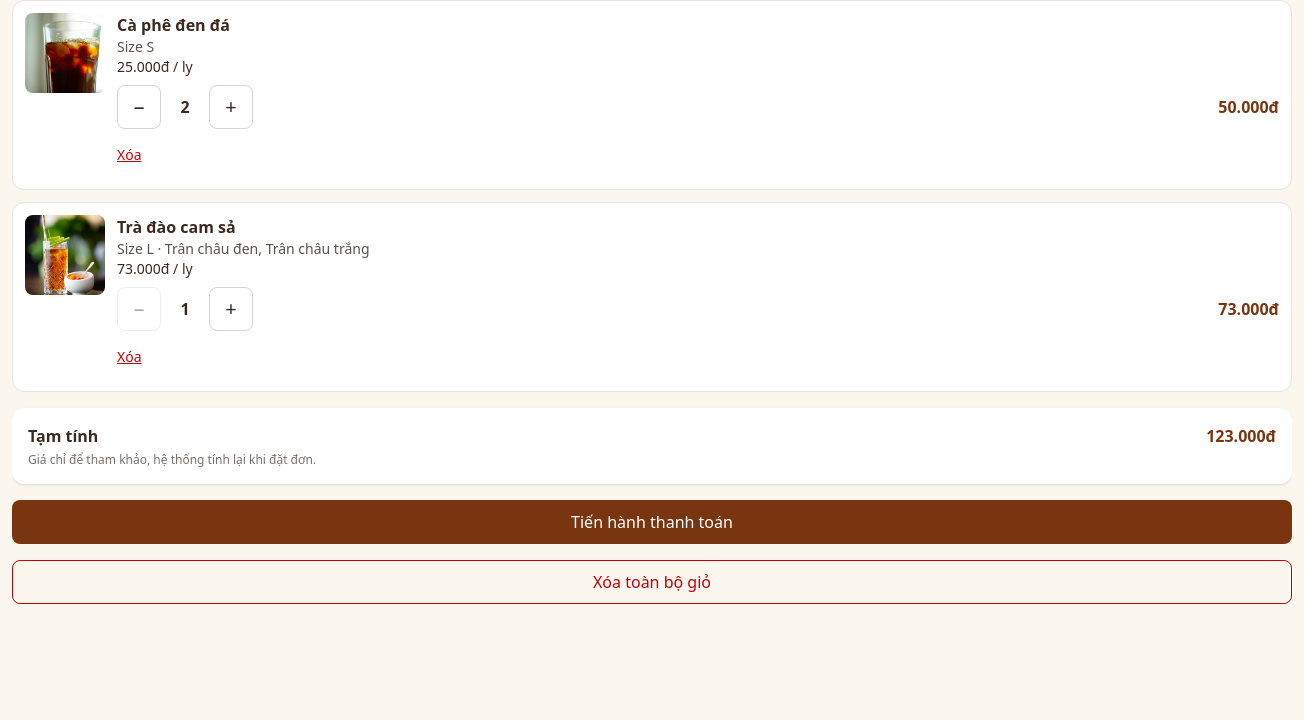
Màn giỏ hàng (CT-38 – CT-41) › CT-40: tăng, giảm số lượng cập nhật thành tiền và tạm tính; tối thiểu là 1
Click the button named "Tăng số lượng Trà đào cam sả size L" at (231, 309), box [209, 287, 253, 331]
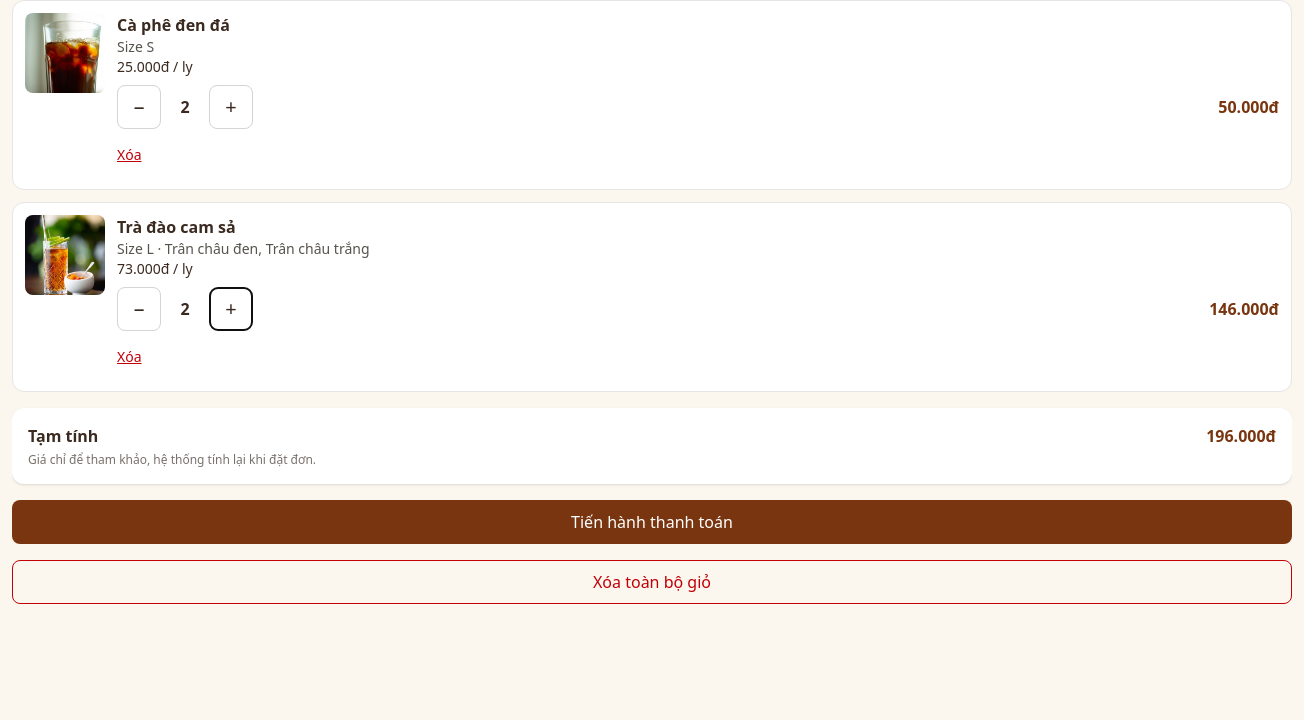
Expected: the text "196.000đ" is shown, [1206, 424, 1276, 448]
Click the button named "Giảm số lượng Cà phê đen đá size S" at (139, 107), box [117, 85, 161, 129]
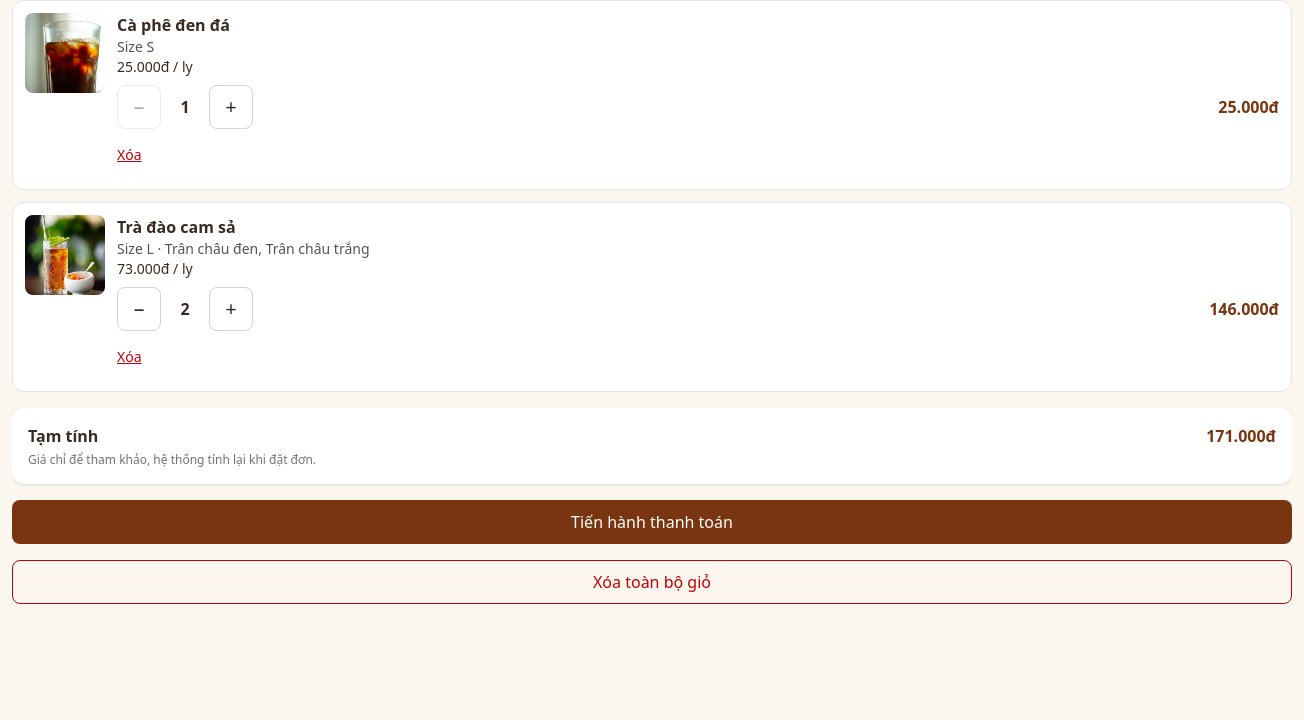
Expected: the text "171.000đ" is shown, [1206, 424, 1276, 448]
